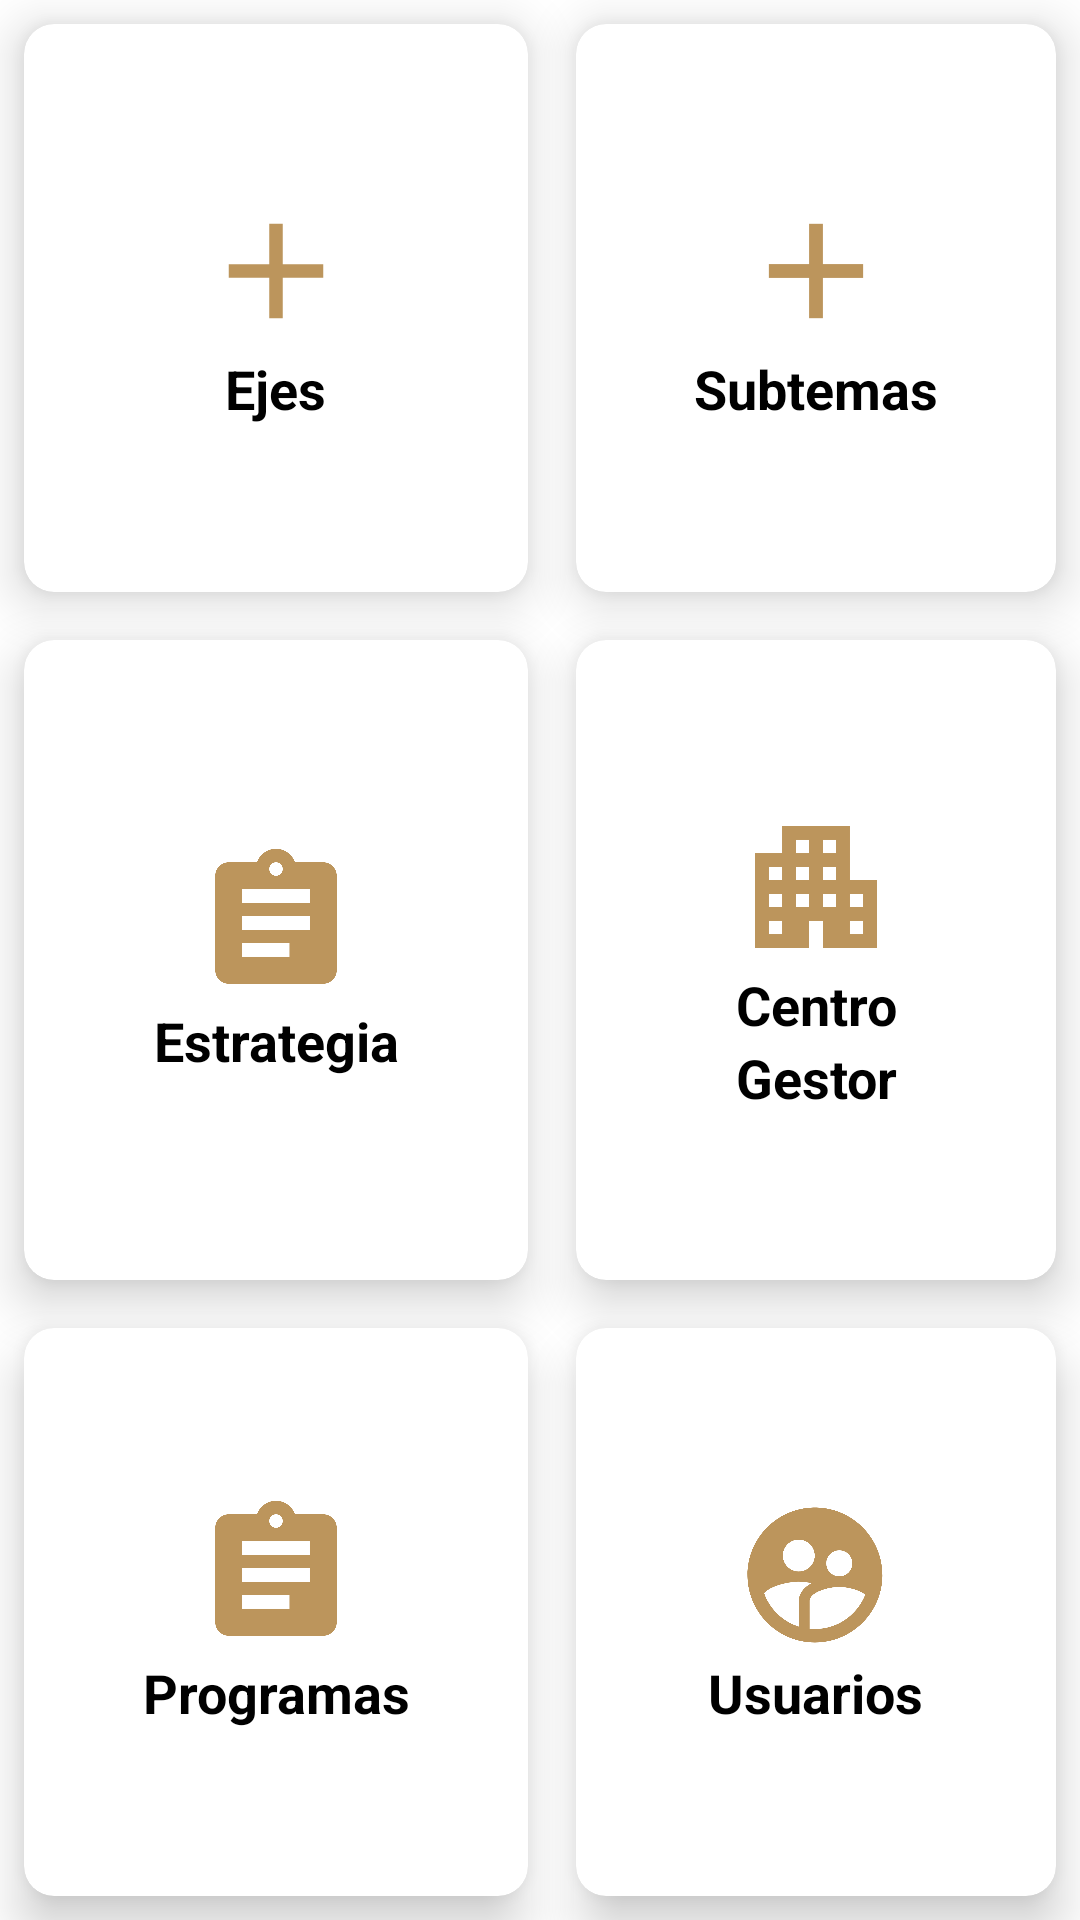

Named icons in this screenshot (1080 x 1920) and their bounding boxes, (x1, y1, x2, y2):
eje: (228, 223, 324, 319), (769, 223, 863, 319)
